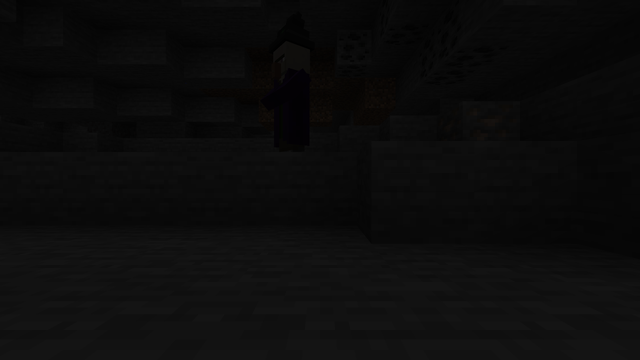sorcieres: (271, 37, 309, 133)
